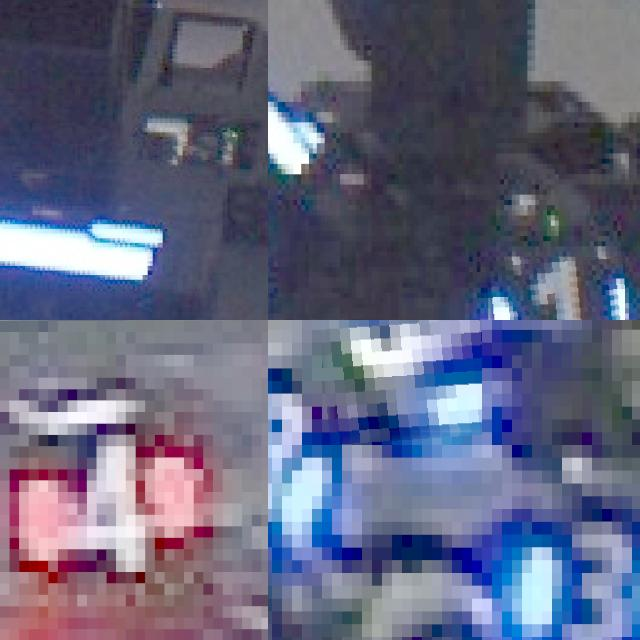B1: (480, 256, 625, 320)
B3: (312, 320, 482, 445), (512, 483, 640, 640), (268, 368, 332, 547)
R4: (9, 435, 213, 583)
